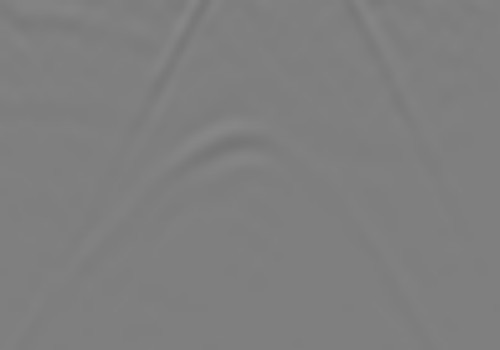hyperbola: (79, 108, 401, 306)
